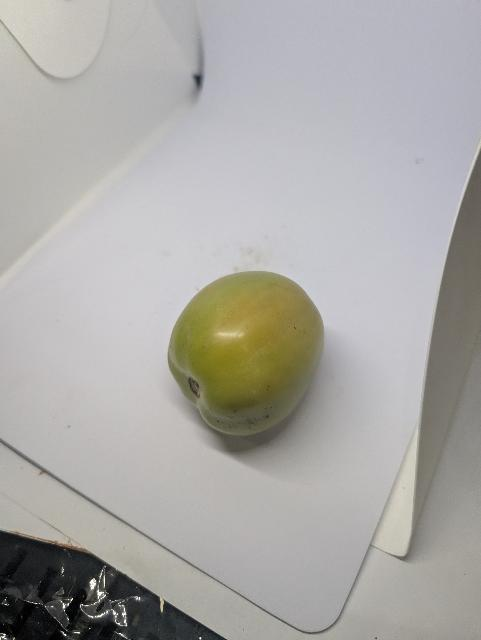green: (164, 264, 339, 448)
